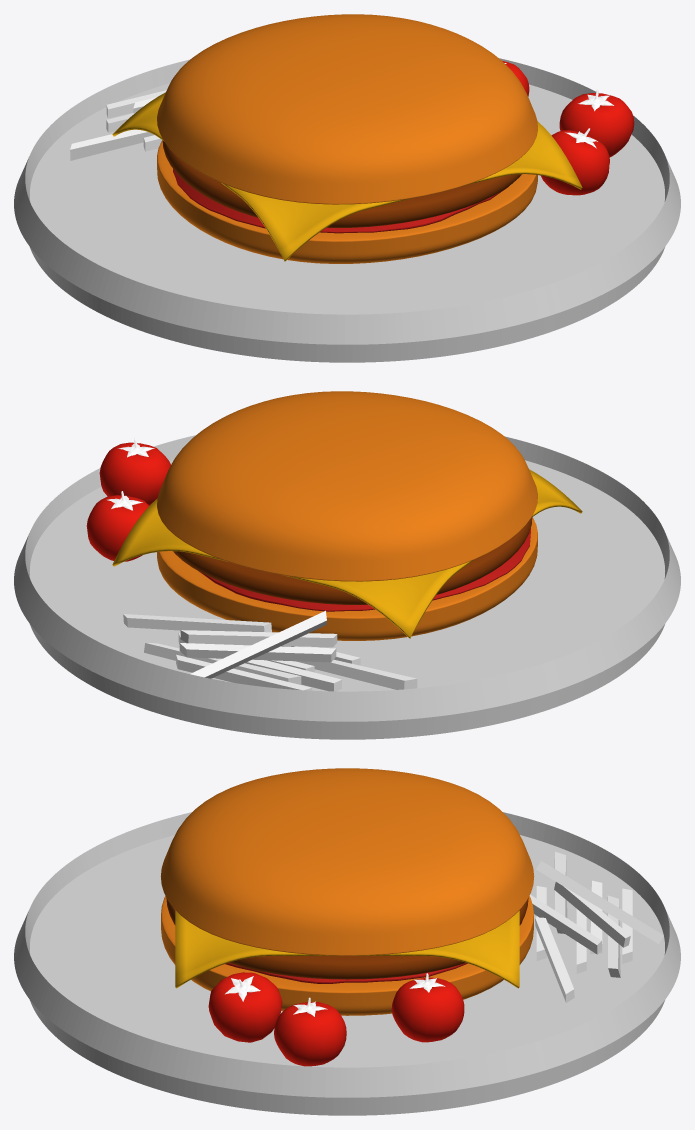
Rendered from burger-tomato-chips-on-plate.glb.
The picture shows the model from 3 angles, top to bottom: view 1: azimuth 30°, elevation 25°; view 2: azimuth 150°, elevation 25°; view 3: azimuth 270°, elevation 25°; orthographic projection.
Parts seen in each view (by area): view 1: Plate, BunTop, BunBottom, Cheese, Meat, Tomato, Tomato.004, Ketchup, Cylinder.007, Cylinder.004; view 2: Plate, BunTop, BunBottom, Cheese, Meat, Tomato, Tomato.001, Ketchup, Cylinder.008, Cylinder.006, Cylinder.003, Cylinder (+4 smaller); view 3: Plate, BunTop, BunBottom, Cheese, Meat, Tomato.004, Tomato.001, Tomato, Cylinder.008, Cylinder.006, Cylinder, Cylinder.003 (+3 smaller).
Boxes of the visible parts, x1,y1,x2,y2 form: Plate: (14,58,680,362); BunTop: (157,14,537,204); BunBottom: (157,140,537,263); Cheese: (112,92,582,261); Meat: (162,140,521,227); Tomato: (559,93,634,157); Tomato.004: (541,130,609,195); Ketchup: (173,169,508,233); Cylinder.007: (70,129,153,160); Cylinder.004: (106,90,166,118); Plate: (14,435,680,739); BunTop: (157,391,537,581); BunBottom: (157,517,537,640); Cheese: (112,469,582,638); Meat: (173,517,532,604); Tomato: (99,442,170,505); Tomato.001: (86,495,148,561); Ketchup: (198,528,530,611); Cylinder.008: (190,610,326,678); Cylinder.006: (179,643,336,662); Cylinder.003: (123,614,271,632); Cylinder: (180,630,337,647); Plate: (14,812,680,1115); BunTop: (160,768,534,955); BunBottom: (161,896,533,1015); Cheese: (175,910,519,988); Meat: (166,898,528,979); Tomato.004: (208,972,282,1042); Tomato.001: (391,977,464,1042); Tomato: (274,1002,346,1066); Cylinder.008: (536,861,663,943); Cylinder.006: (554,882,630,947); Cylinder: (529,894,601,954); Cylinder.003: (535,917,574,1002).
Size of the model in its own units: 16.35 by 4.46 by 16.35.
